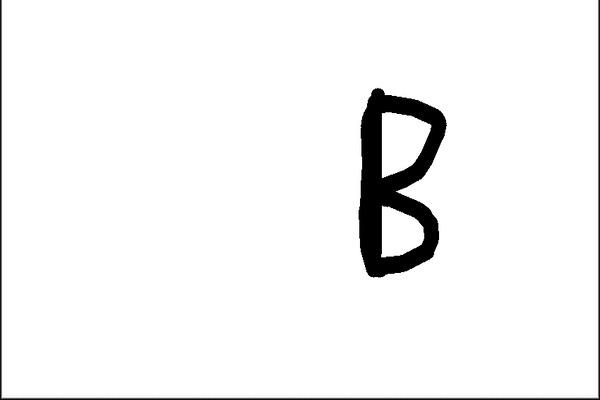B: (344, 81, 454, 283)
